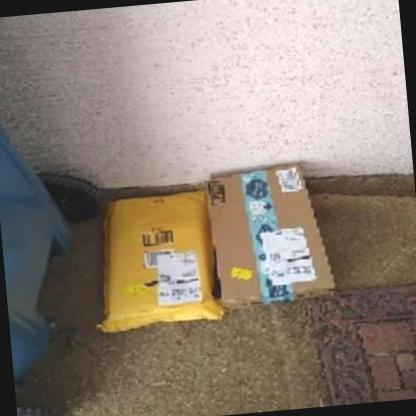box: (203, 157, 337, 313)
envelope: (91, 187, 228, 331)
